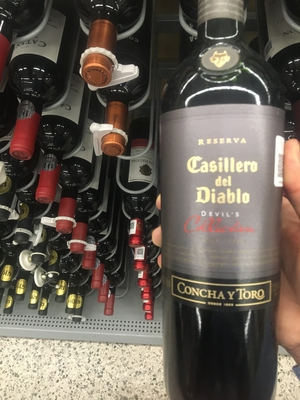casillero del diablo devils collection rojo: (160, 12, 284, 400)
